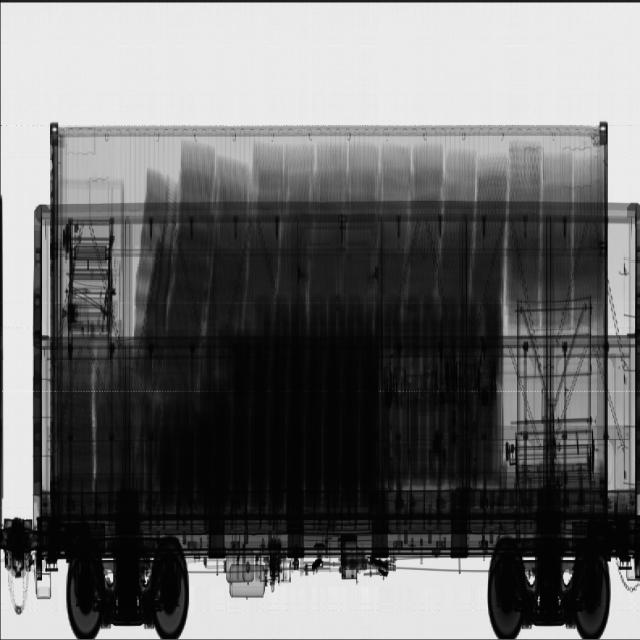clothes: (72, 119, 598, 470)
